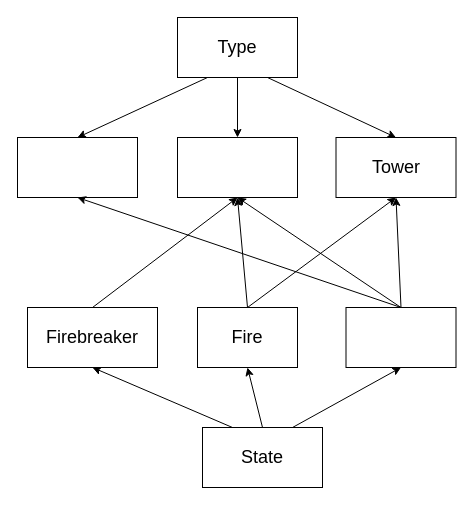
This 474x505 diagram has some shape labels left out. Here are the shapes that lost their labels. From the top down, the box of each, then its label:
(16, 136, 138, 198): Eternal Fire
(176, 136, 298, 198): Woods
(345, 306, 456, 368): Empty
